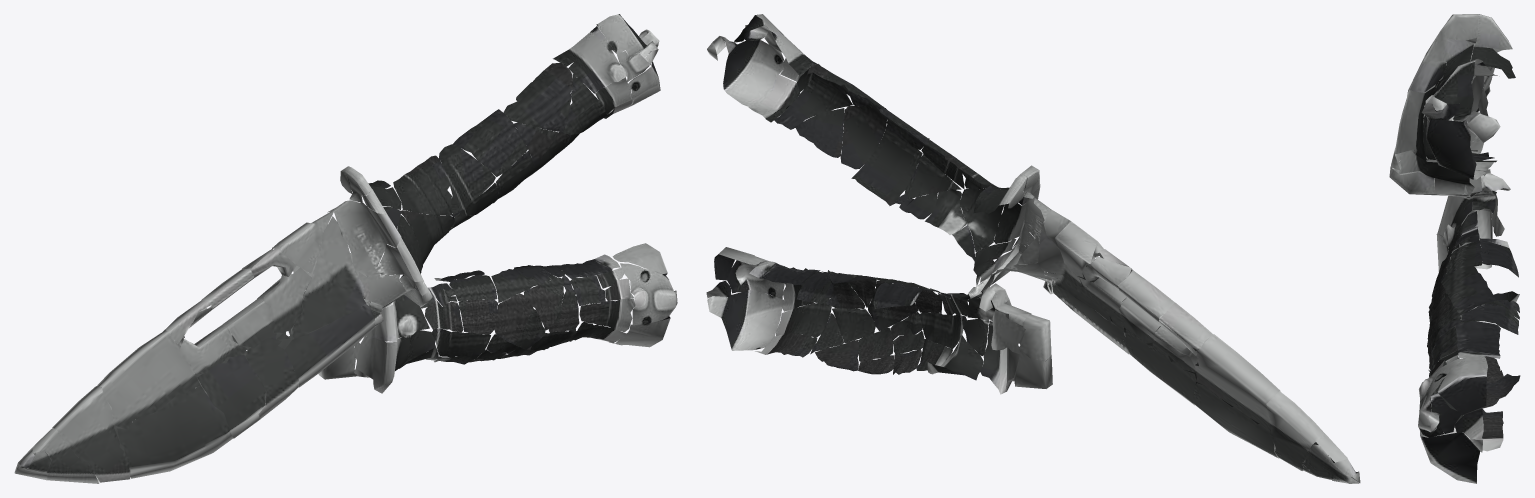
Rendered from knife2.glb.
The picture shows the model from 3 angles, left to right: view 1: azimuth 30°, elevation 25°; view 2: azimuth 150°, elevation 25°; view 3: azimuth 270°, elevation 25°; orthographic projection. The views are drawn at different scales.
Parts seen in each view (by area): view 1: Mesh_0; view 2: Mesh_0; view 3: Mesh_0.
Part boxes in pixels (<box>): Mesh_0: <box>14,14,677,483</box>; Mesh_0: <box>706,14,1360,483</box>; Mesh_0: <box>1389,14,1520,483</box>.
Bounding box in the file's own units: 1.89 × 0.9414 × 0.2736.
Materials: 1 (1 with a texture image).
